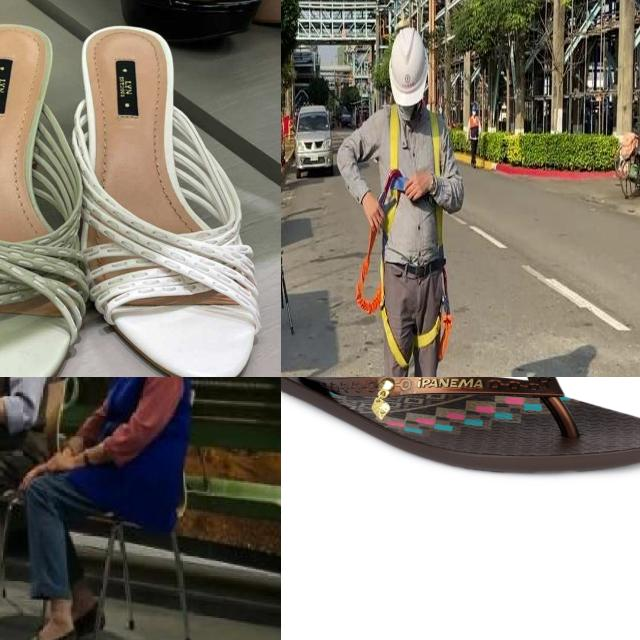Harness: (356, 104, 409, 368)
Sandals: (55, 0, 273, 377), (0, 0, 99, 377), (281, 377, 640, 477)
hand_noglove: (17, 460, 45, 490), (43, 451, 76, 474)
person: (33, 377, 193, 640)
